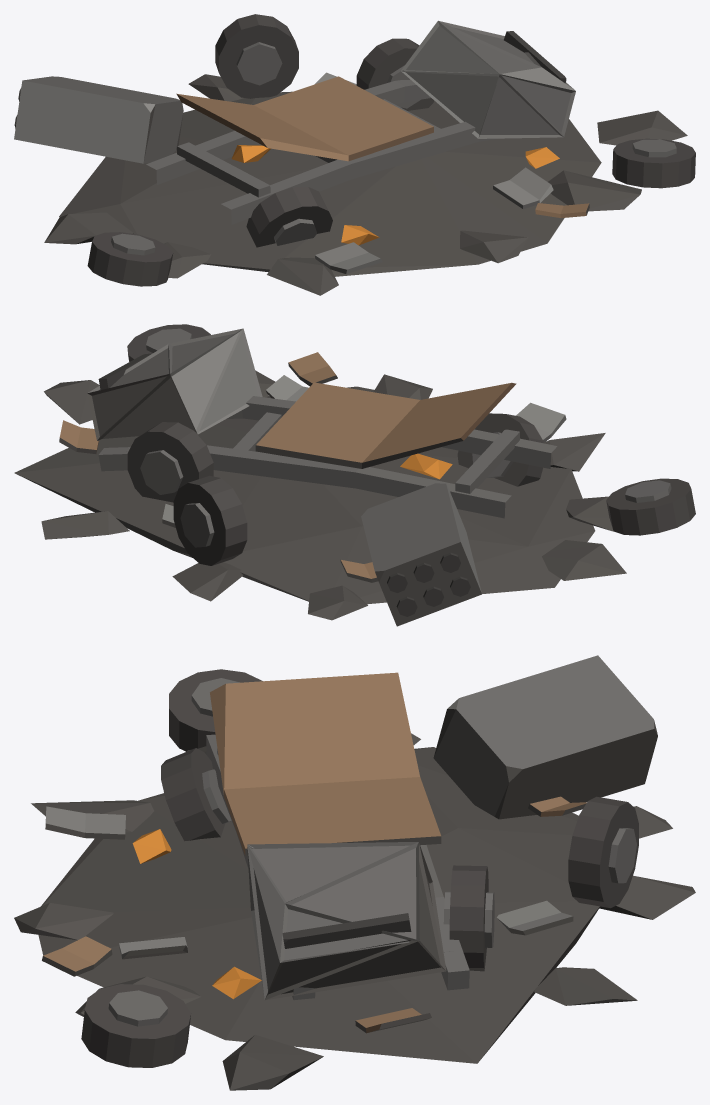
The model's file is wreck_2.glb.
3 views of the same model, one above another, from view 1: azimuth 30°, elevation 25°; view 2: azimuth 150°, elevation 25°; view 3: azimuth 270°, elevation 25° (orthographic). The views are drawn at different scales.
Parts seen in each view (by area): view 1: Body; view 2: Body; view 3: Body.
Part boxes in pixels (x1,y1,x2,y2): Body: (14,14,695,295); Body: (14,324,695,626); Body: (14,655,695,1090).
Size of the model in its own units: 6.34 by 1.25 by 4.82.
